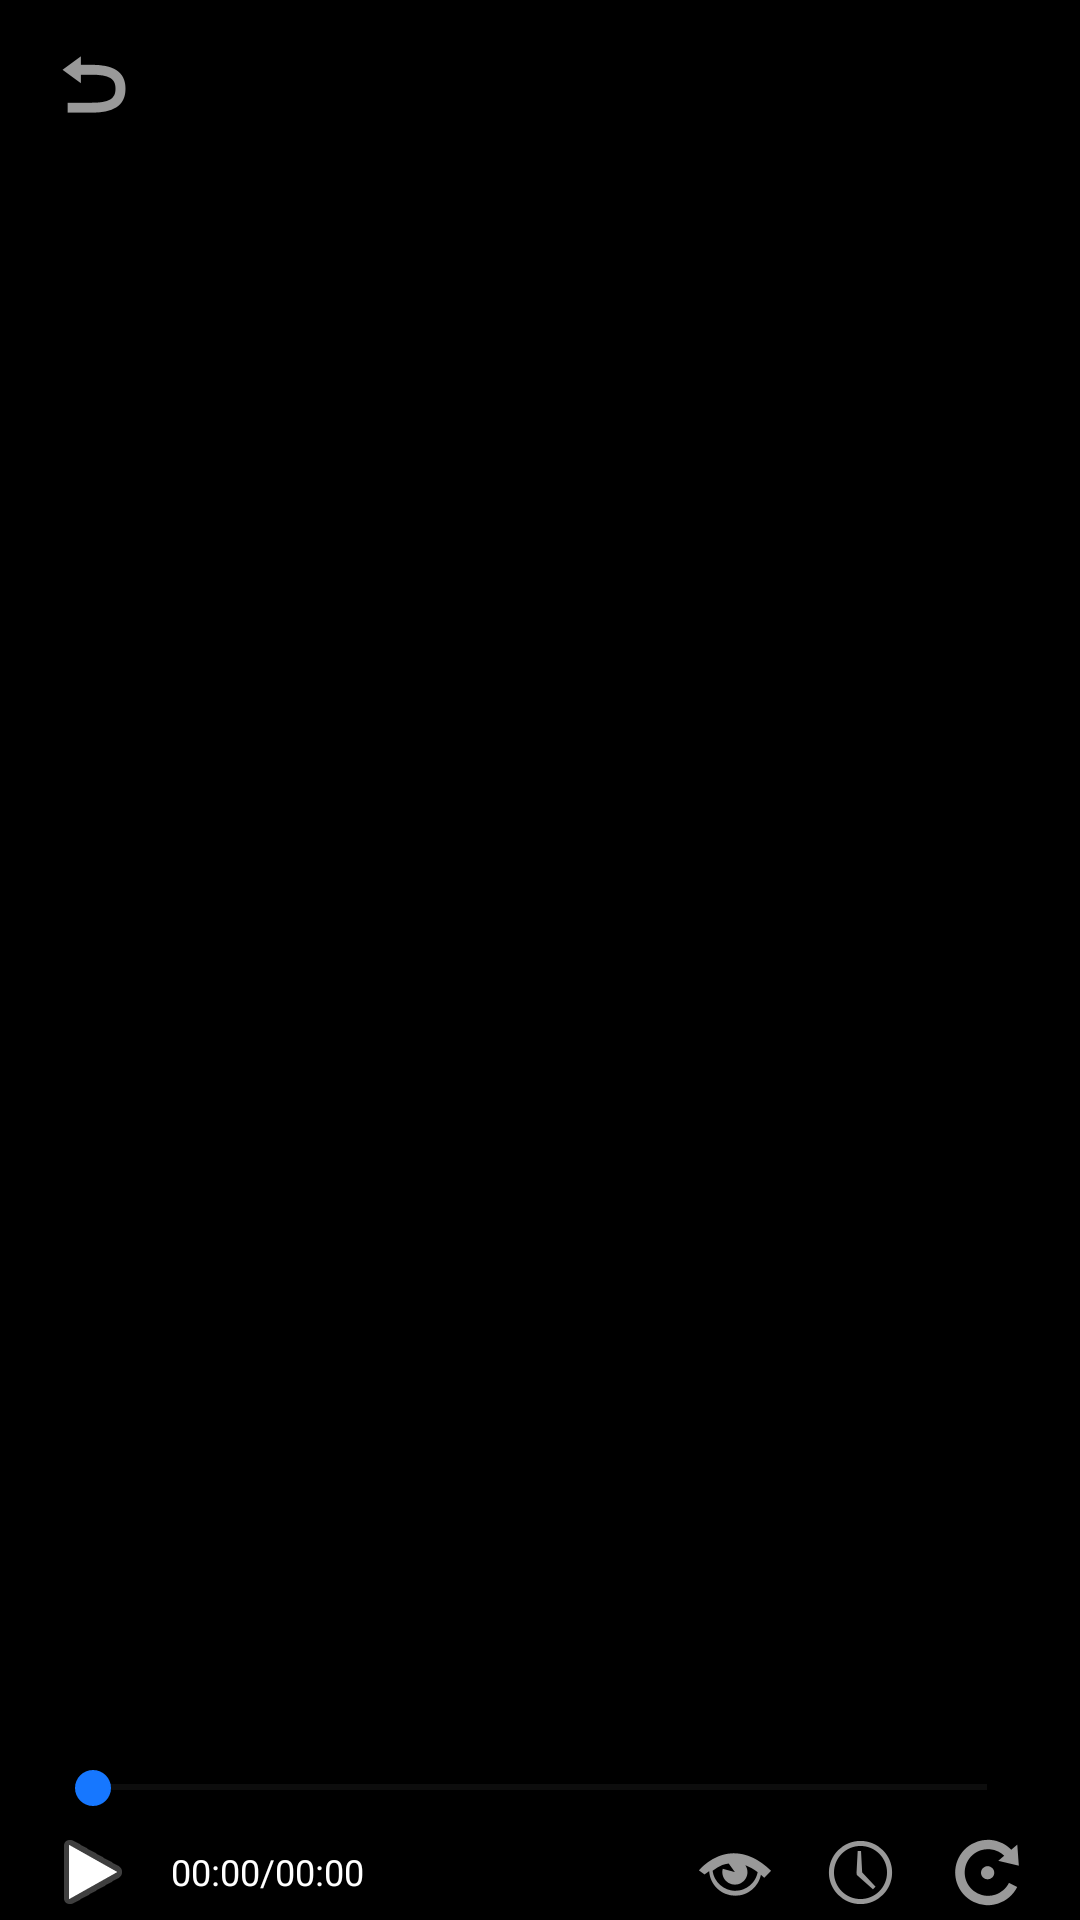

Locate icon controls on the screen. Image size 1080w x 1920h, boxes as rect(x1, y1, x2, y2).
播放/暂停: rect(64, 1840, 122, 1904)
返回: rect(63, 56, 126, 113)
